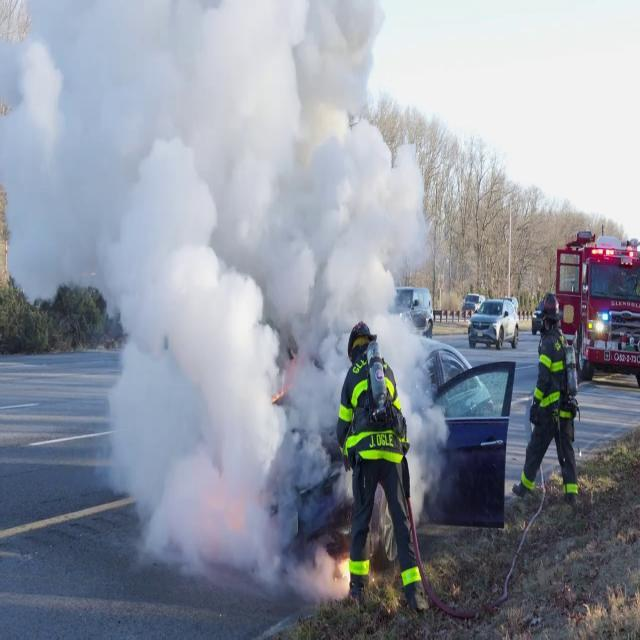Smoke: (75, 1, 442, 593)
